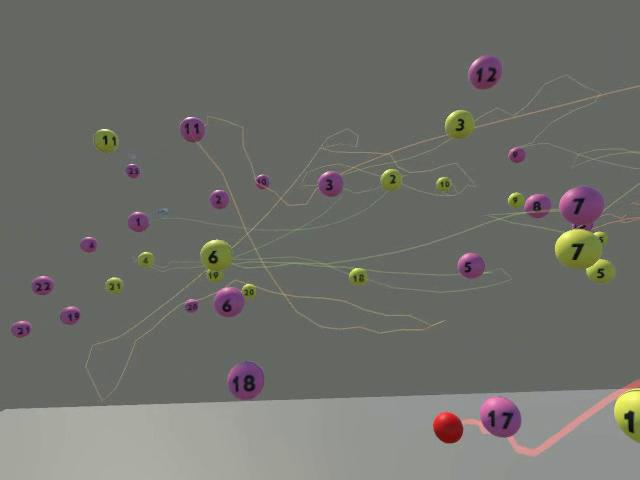ball_01_pink: (127, 212, 148, 232)
ball_02_pink: (209, 189, 229, 209)
ball_02_yellow: (380, 169, 401, 190)
ball_03_pink: (318, 172, 344, 196)
ball_03_yellow: (444, 109, 474, 139)
ball_04_pink: (79, 237, 98, 253)
ball_04_yellow: (137, 252, 153, 268)
ball_05_pink: (458, 253, 484, 278)
ball_05_yellow: (585, 258, 615, 283)
ball_06_pink: (213, 287, 244, 317)
ball_06_yellow: (199, 239, 232, 271)
ball_07_pink: (559, 186, 603, 225)
ball_07_yellow: (554, 228, 601, 268)
ball_08_pink: (524, 193, 551, 218)
ball_09_pink: (507, 147, 526, 163)
ball_09_yellow: (507, 192, 523, 208)
ball_10_pink: (254, 173, 270, 189)
ball_10_yellow: (435, 176, 451, 191)
ball_11_pink: (179, 116, 205, 142)
ball_11_yellow: (94, 129, 118, 152)
ball_12_pink: (467, 55, 502, 89)
ball_17_pink: (479, 396, 521, 437)
ball_18_pink: (226, 361, 264, 399)
ball_18_yellow: (348, 267, 367, 285)
ball_19_pink: (60, 306, 81, 325)
ball_19_yellow: (206, 269, 223, 281)
ball_20_pink: (184, 299, 199, 313)
ball_20_yellow: (241, 283, 256, 298)
ball_21_pink: (11, 321, 31, 338)
ball_21_yellow: (104, 276, 123, 294)
ball_22_pink: (31, 275, 53, 295)
ball_25_pink: (126, 164, 140, 178)
ball_unknown: (613, 388, 639, 443), (593, 230, 607, 246), (572, 222, 592, 231)
user_cursor: (432, 410, 463, 442)
